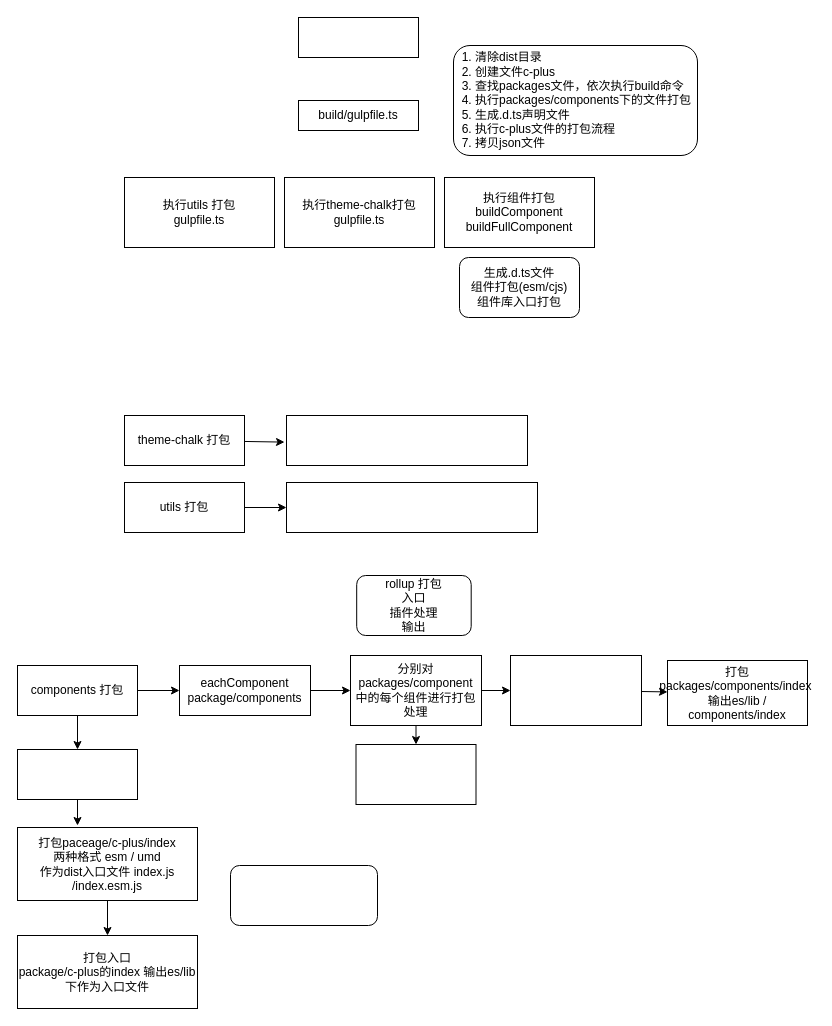
This 832x1026 diagram has some shape labels left out. The centre of each missing label's shape, as x and y in pixels:
"build： ts 文件编译为 js 文件，生成.d.ts声明文件输出" belongs at (x=412, y=507).
"fullComponent package/c-plus" belongs at (x=77, y=774).
"gulp 样式处理 scss -> css->添加前缀 -> 压缩" belongs at (x=407, y=440).
"npm run build" belongs at (x=358, y=37).
"根据package/c-plus/index.ts 生成.d.ts文件输出到es/lib下" belongs at (x=304, y=895).
"生成对应的.d.ts文件 ts-morph" belongs at (x=415, y=774).
"输出dist/c-plus/es(lib)" belongs at (x=576, y=690).
